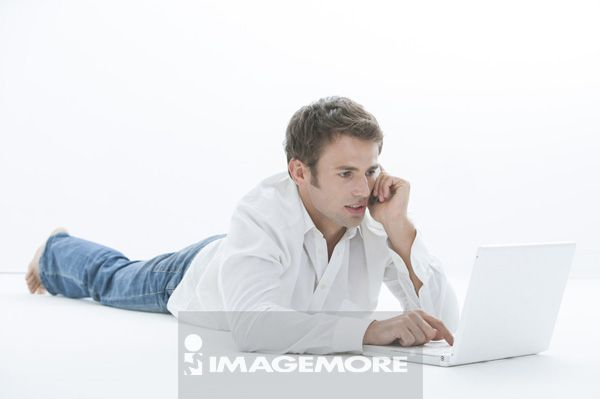talk: (332, 162, 413, 234)
